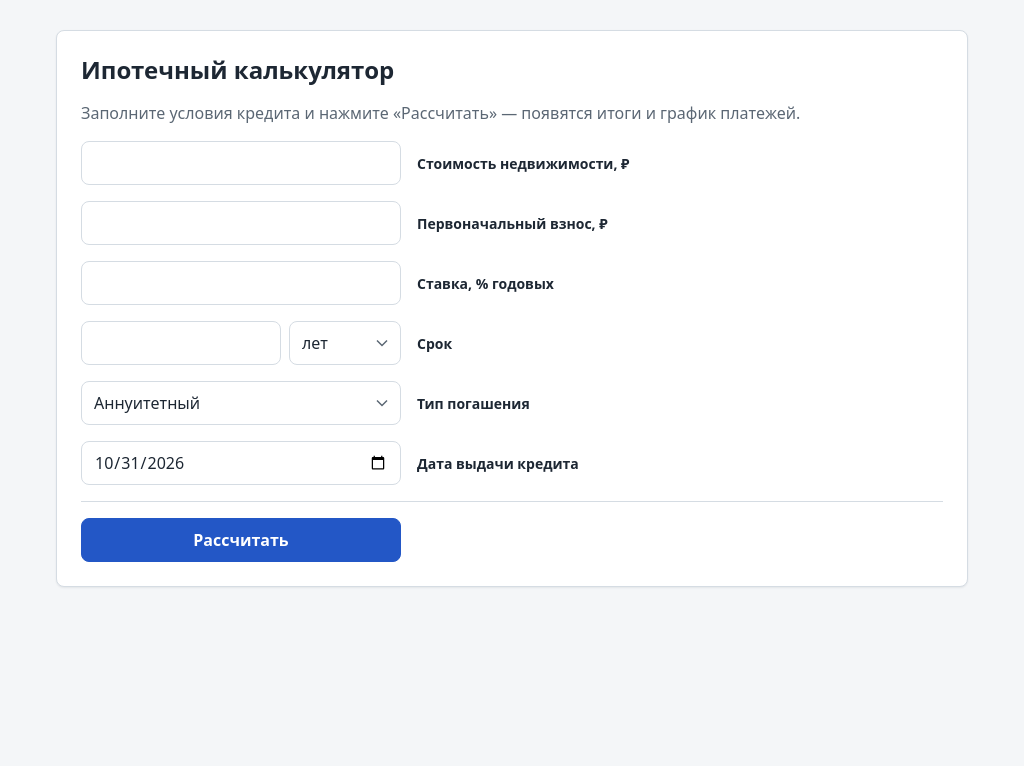
it: отправляет параметры и показывает итоги и график
The width and height of the screenshot is (1024, 766).
Type "5000000" into the field labelled "Стоимость недвижимости, ₽" at [241, 163], box [81,141,401,185]
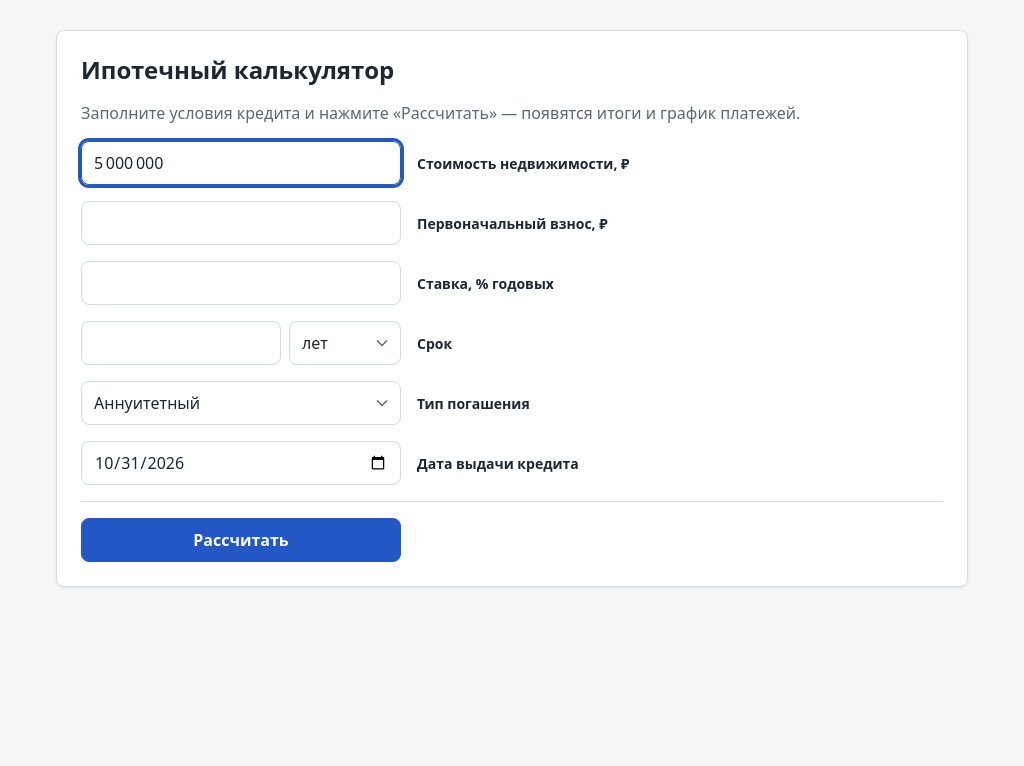
Type "1000000" into the field labelled "Первоначальный взнос, ₽" at [241, 223], box [81,201,401,245]
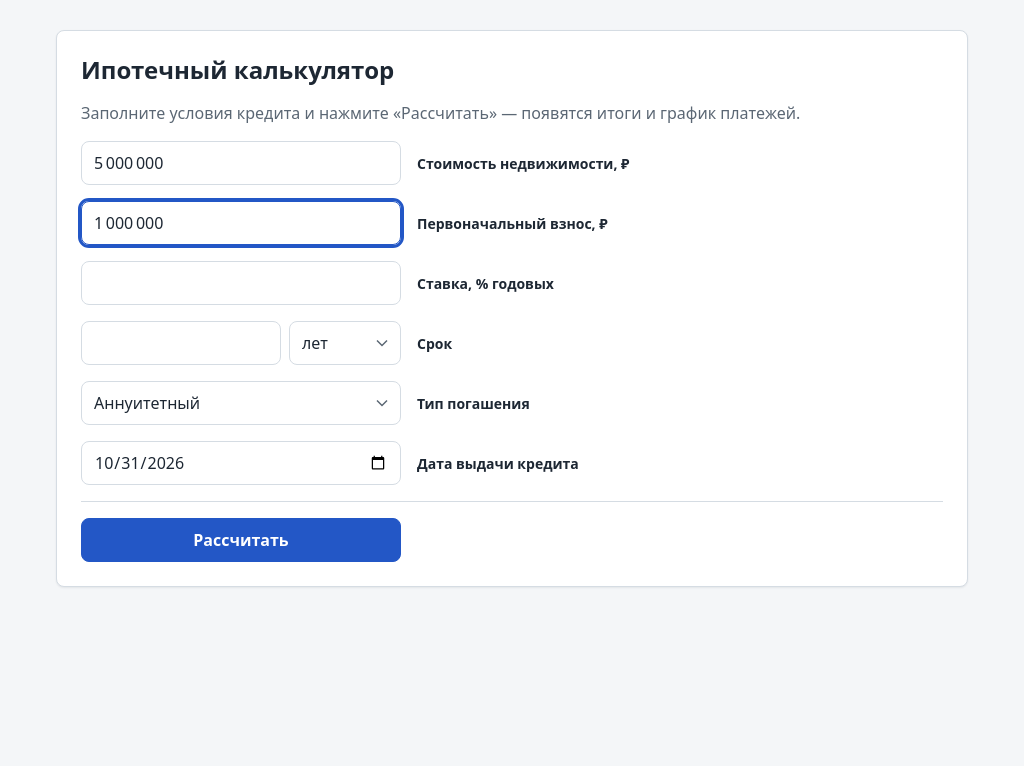
Type "18.5" into the field labelled "Ставка, % годовых" at [241, 283], box [81,261,401,305]
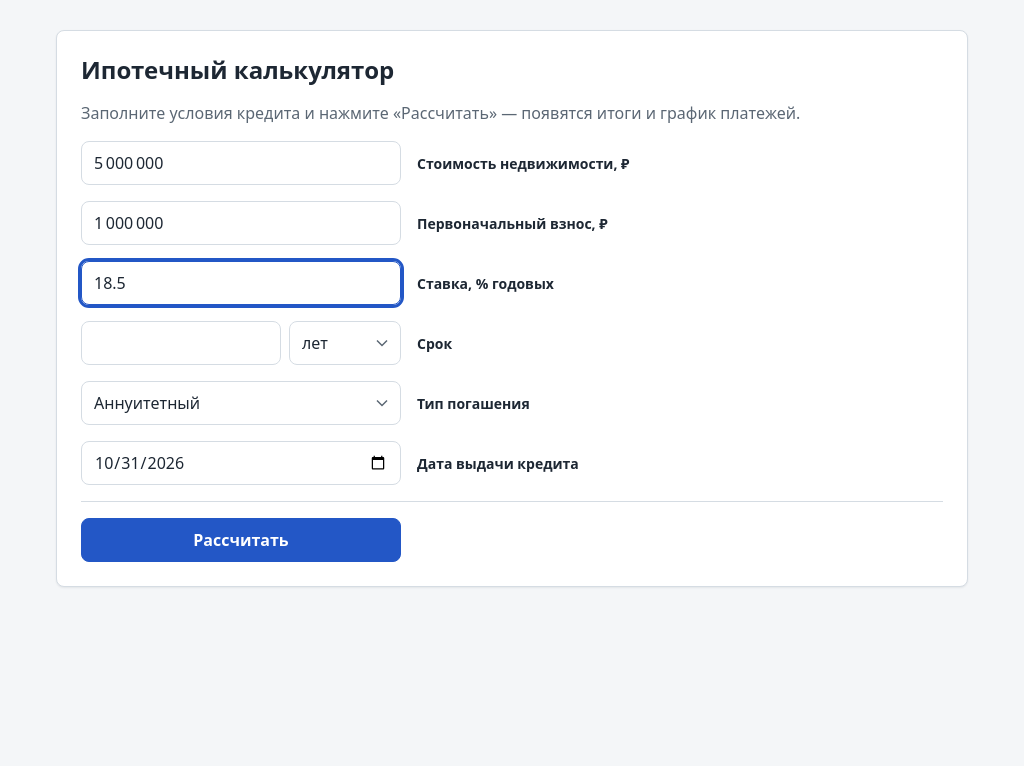
Type "20" into the field labelled "Срок" at [181, 343], box [81,321,281,365]
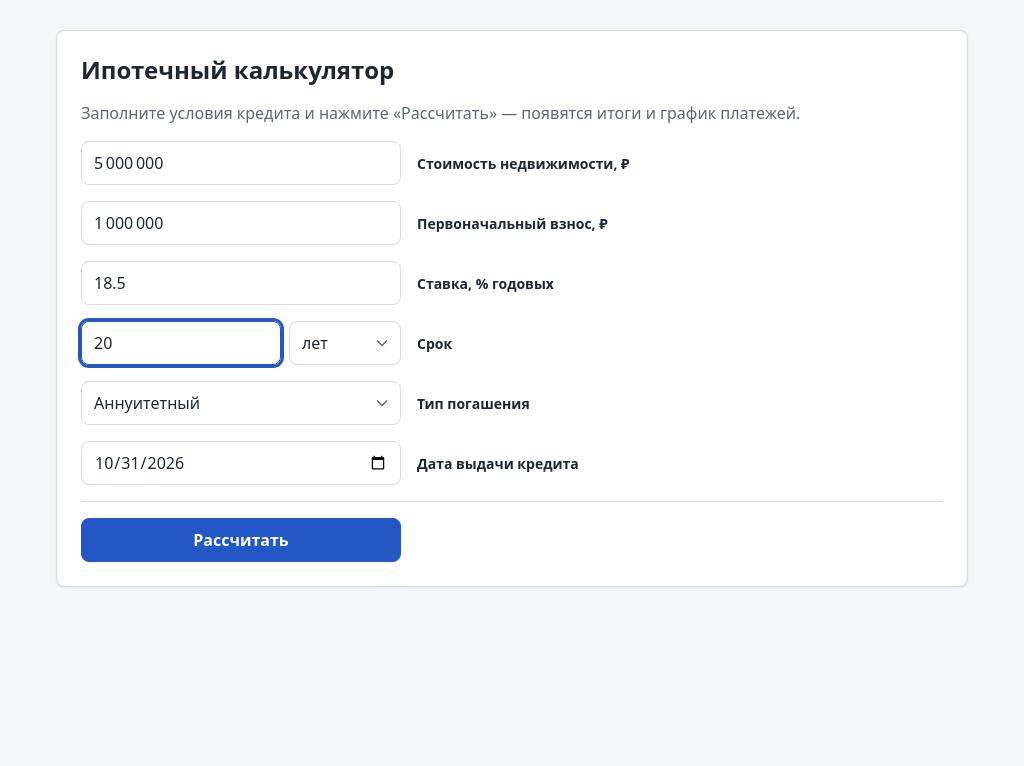
Click the button "Рассчитать" at [241, 540], box [81,518,401,562]
(page scrolled)
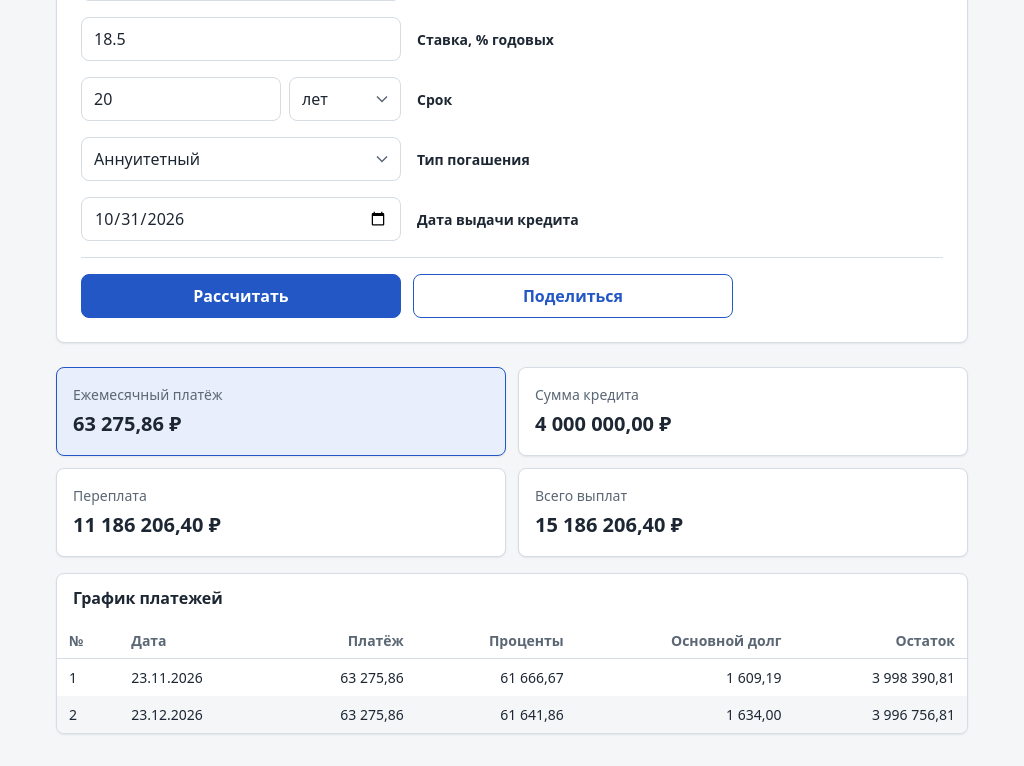
expect the text "Ежемесячный платёж" is shown: met, box [73,384,222,405]
expect the number of rows is 3: met, box [57,622,967,659]; [57,659,967,696]; [57,696,967,733]
expect the cell "23.11.2026" is shown: met, box [119,659,274,696]
